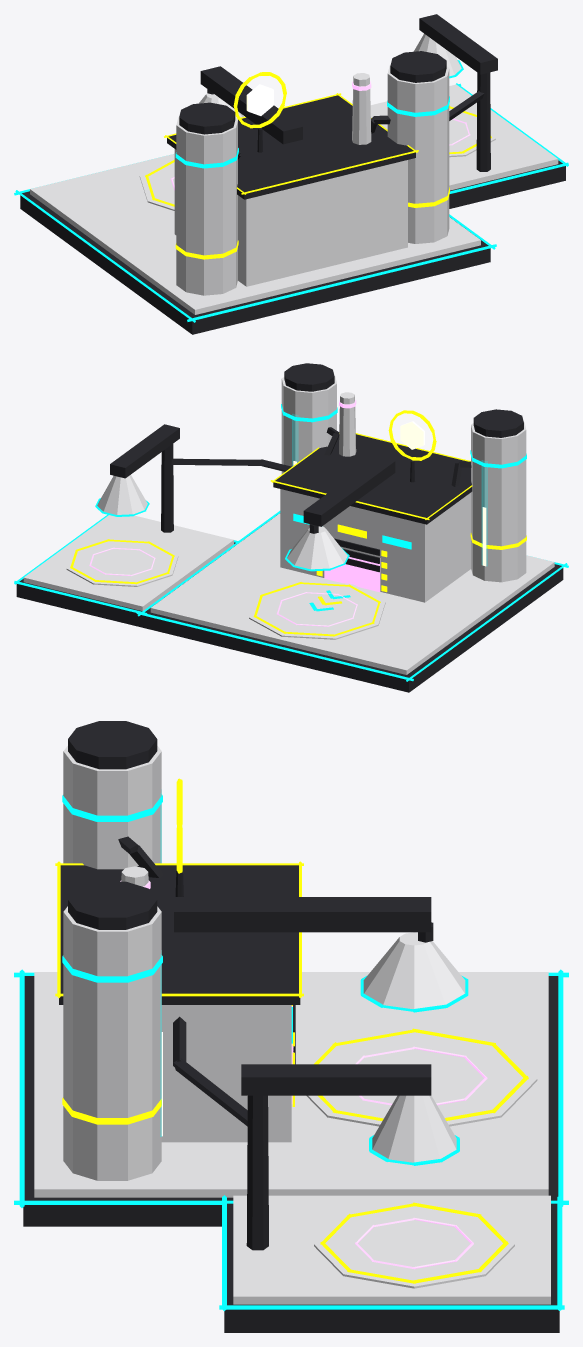
Rendered from DataRefinery.fbx.
3 views of the same model, one above another, from view 1: azimuth 30°, elevation 25°; view 2: azimuth 150°, elevation 25°; view 3: azimuth 270°, elevation 25° (orthographic). The views are drawn at different scales.
Visible parts, largest first — view 1: Ref_SlabTop, Ref_Hall, Ref_Silo-1, Ref_HallRoof, Ref_Slab, Ref_Silo1, RefMk2_SlabExtTop, Ref_IntakeArm, RefMk2_IntakeArm, RefMk2_SlabExt, Ref_SlabGlow, Ref_SiloCap-1 (+10 smaller); view 2: Ref_SlabTop, Ref_Hall, Ref_HallRoof, Ref_Silo-1, RefMk2_SlabExtTop, Ref_Slab, Ref_DockPad, RefMk2_DockPad, Ref_Silo1, Ref_IntakeArm, RefMk2_SlabExt, Ref_SlabGlow (+15 smaller); view 3: Ref_SlabTop, Ref_Silo1, RefMk2_SlabExtTop, Ref_HallRoof, Ref_Hall, Ref_DockPad, RefMk2_DockPad, RefMk2_SlabExt, Ref_Slab, Ref_IntakeArm, Ref_Silo-1, RefMk2_IntakeArm (+13 smaller).
Part boxes in pixels (x1,y1,x2,y2): Ref_SlabTop: (30, 154, 480, 314); Ref_Hall: (174, 149, 407, 286); Ref_Silo-1: (176, 117, 237, 295); Ref_HallRoof: (167, 95, 415, 199); Ref_Slab: (20, 191, 490, 334); Ref_Silo1: (387, 65, 449, 243); RefMk2_SlabExtTop: (370, 84, 558, 190); Ref_IntakeArm: (200, 66, 302, 144); RefMk2_IntakeArm: (419, 14, 497, 74); RefMk2_SlabExt: (449, 160, 565, 208); Ref_SlabGlow: (14, 189, 496, 322); Ref_SiloCap-1: (179, 102, 235, 134); Ref_SlabTop: (150, 513, 554, 674); Ref_Hall: (280, 489, 471, 602); Ref_HallRoof: (273, 434, 472, 524); Ref_Silo-1: (471, 422, 526, 582); RefMk2_SlabExtTop: (23, 515, 233, 610); Ref_Slab: (142, 515, 563, 692); Ref_DockPad: (249, 581, 385, 639); RefMk2_DockPad: (66, 538, 178, 586); Ref_Silo1: (281, 376, 336, 473); Ref_IntakeArm: (303, 457, 395, 526); RefMk2_SlabExt: (16, 542, 235, 627); Ref_SlabGlow: (136, 511, 568, 681); Ref_SlabTop: (34, 972, 548, 1197); Ref_Silo1: (63, 906, 161, 1180); RefMk2_SlabExtTop: (233, 1195, 550, 1304); Ref_HallRoof: (59, 865, 300, 1004); Ref_Hall: (161, 1005, 291, 1142); Ref_DockPad: (306, 1027, 537, 1126); RefMk2_DockPad: (314, 1201, 514, 1288); RefMk2_SlabExt: (224, 1200, 559, 1332); Ref_Slab: (23, 976, 558, 1226); Ref_IntakeArm: (174, 897, 431, 932); Ref_Silo-1: (63, 746, 161, 869); RefMk2_IntakeArm: (241, 1064, 431, 1095).
Size of the model in its own units: 3.58 by 1.51 by 2.48.
